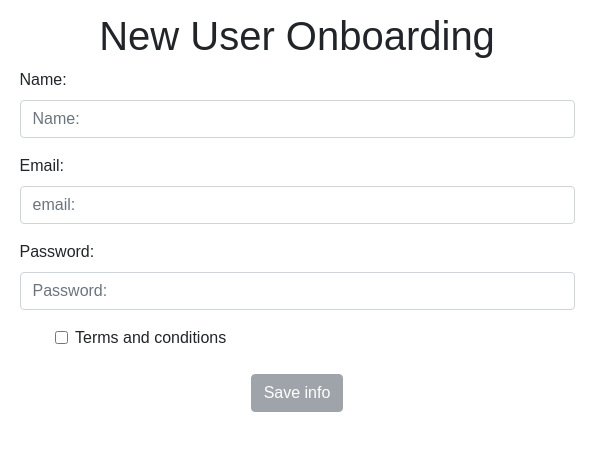
Test: Testing our Form › Get the email and input the email
The width and height of the screenshot is (596, 469).
Step 1. Type "email@email.com" into the field with test id "email-input" → point(298, 205), box [20, 186, 575, 224]
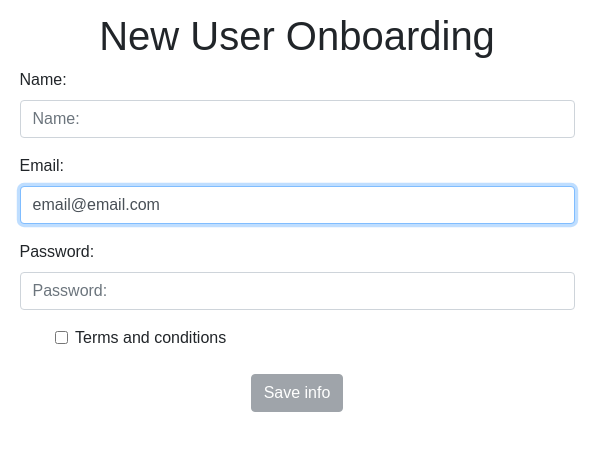
Step 2. Replace the text in the field with test id "email-input" with "email.com" → point(298, 205), box [20, 186, 575, 224]
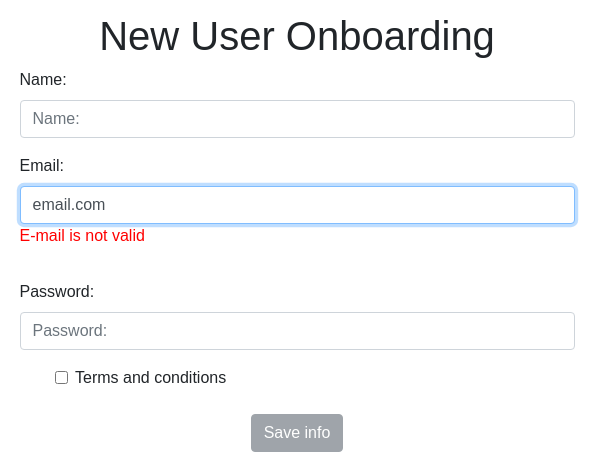
Expected: the field with test id "email-input" holds "email.com"
Expected: the text "E-mail is not valid" is shown, [20, 224, 145, 248]
Step 3. Clear the field with test id "email-input" → point(298, 205), box [20, 186, 575, 224]
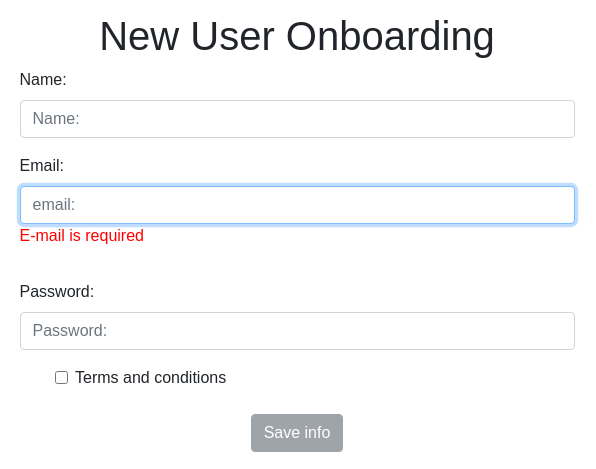
Expected: the button with test id "submit" is disabled, [251, 414, 344, 452]
Expected: the text "E-mail is required" is shown, [20, 224, 144, 248]
